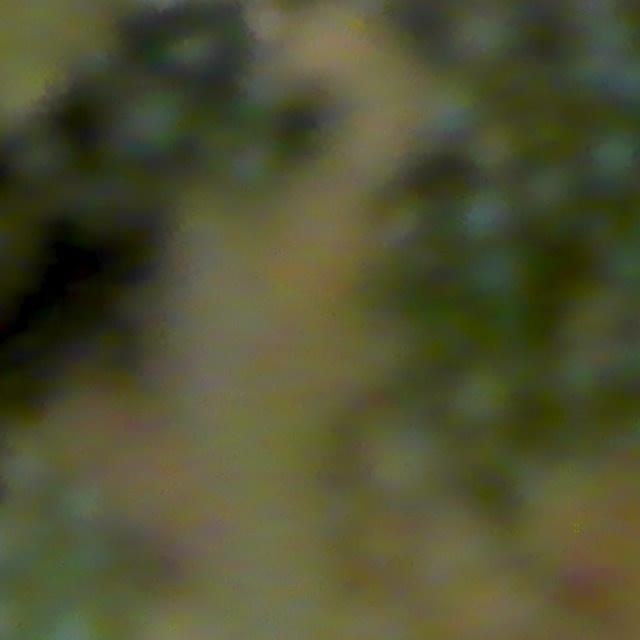SeaGrape: (461, 238, 541, 314), (115, 81, 192, 159), (445, 360, 520, 433), (413, 70, 486, 141), (518, 157, 581, 228), (583, 120, 640, 196), (455, 182, 520, 246), (467, 117, 528, 176)
